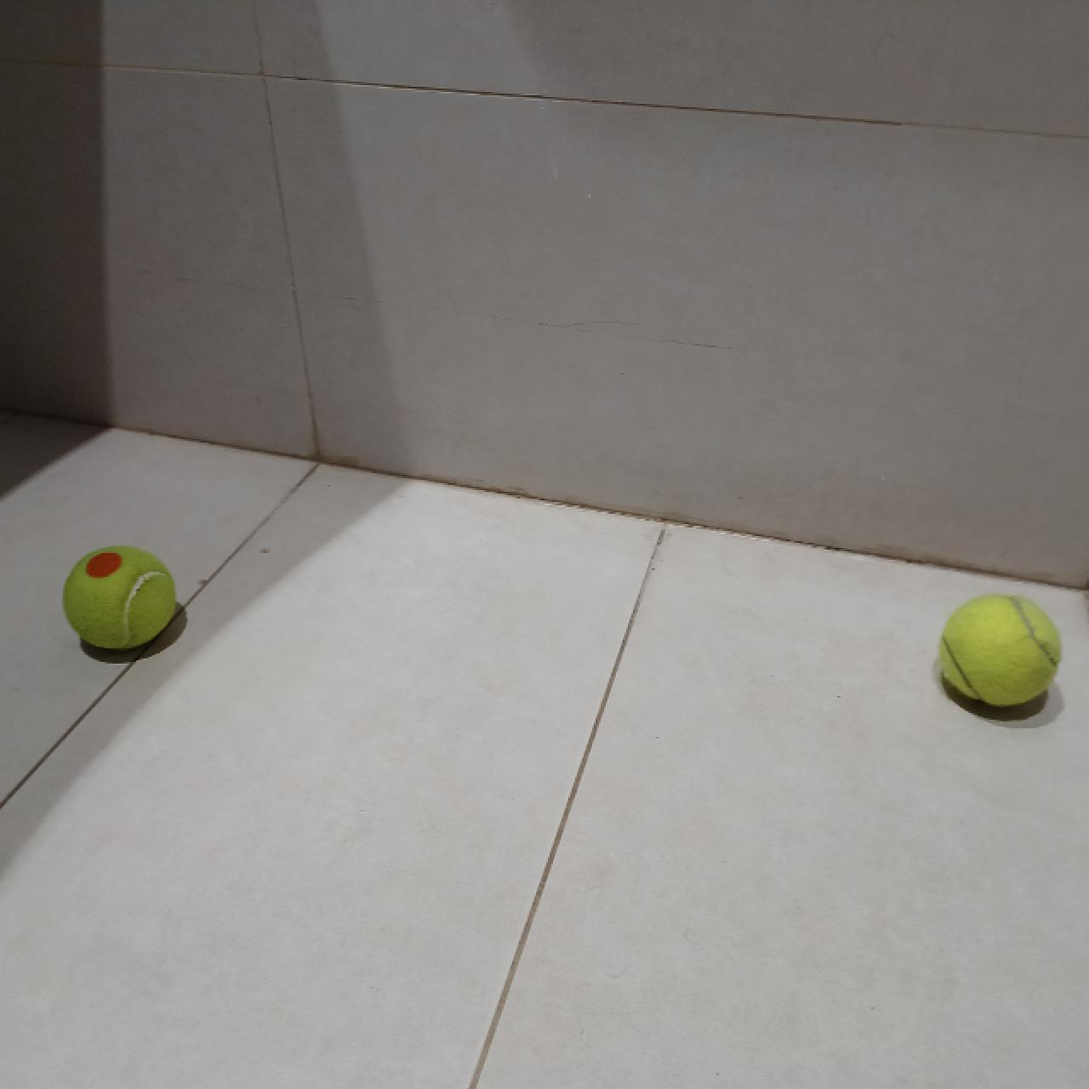tennis-ball: (936, 593, 1061, 710), (60, 541, 181, 654)
